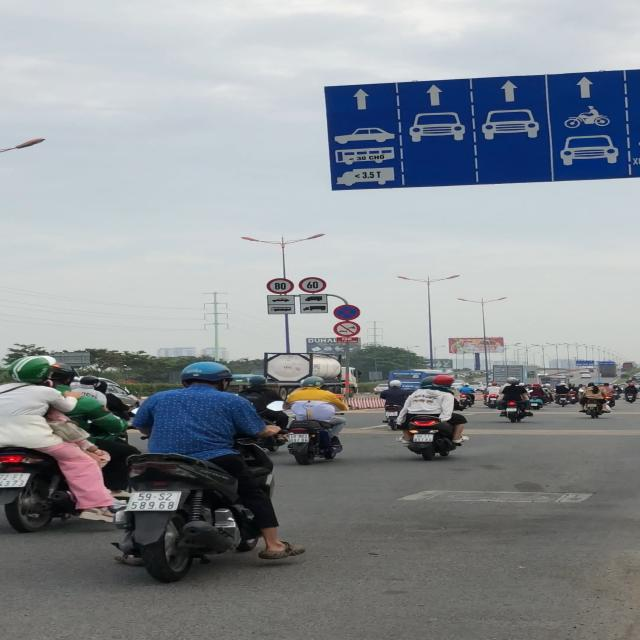Bien bao cam dung xe va do xe: (333, 304, 363, 322)
Bien bao toc do toi da cho phep: (265, 277, 296, 294), (299, 277, 327, 294)
